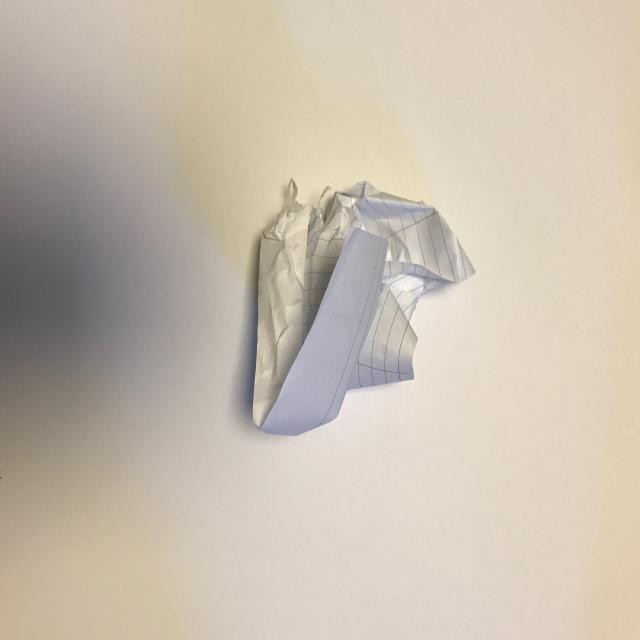paper: (230, 161, 492, 460)
